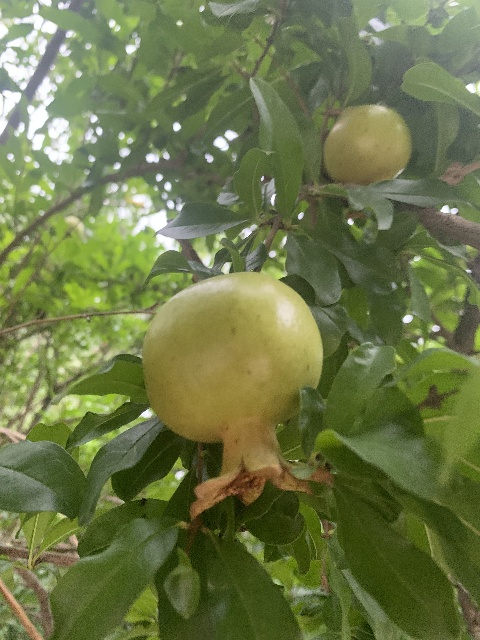mid-growth: (140, 272, 326, 511), (322, 103, 413, 187)
